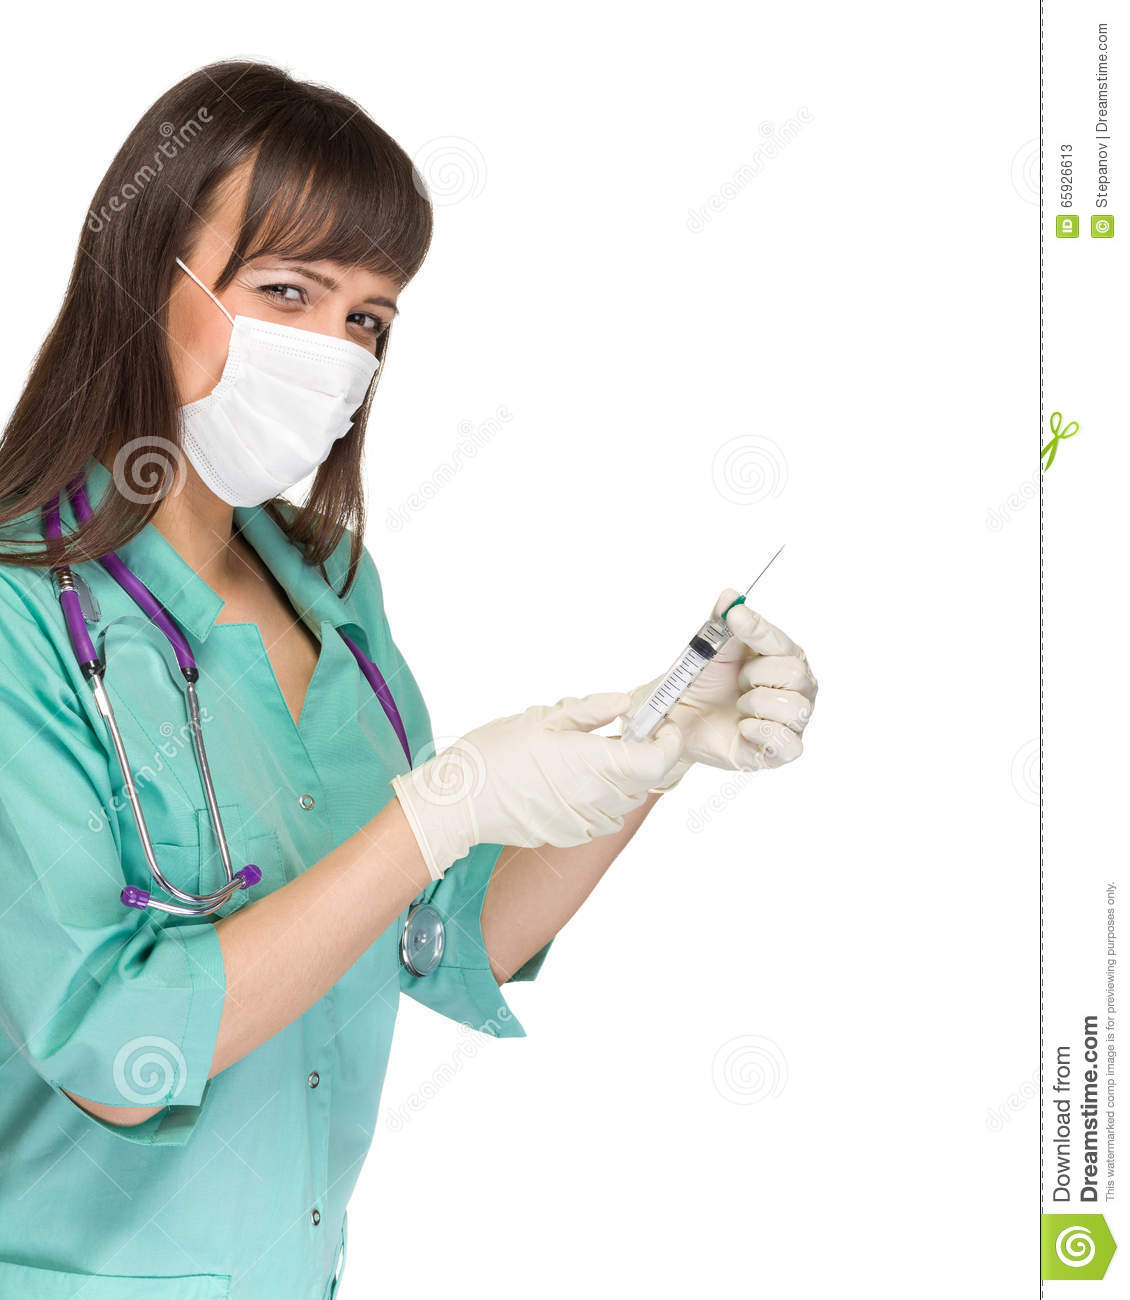mask: (177, 317, 383, 530)
